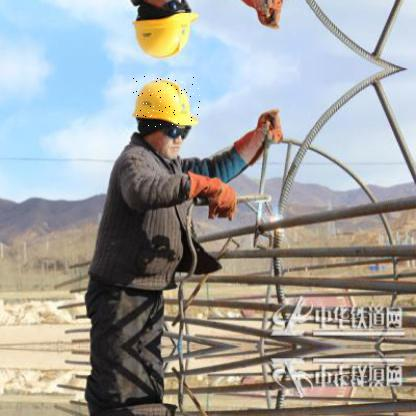safetyhelmet: (130, 76, 201, 128)
